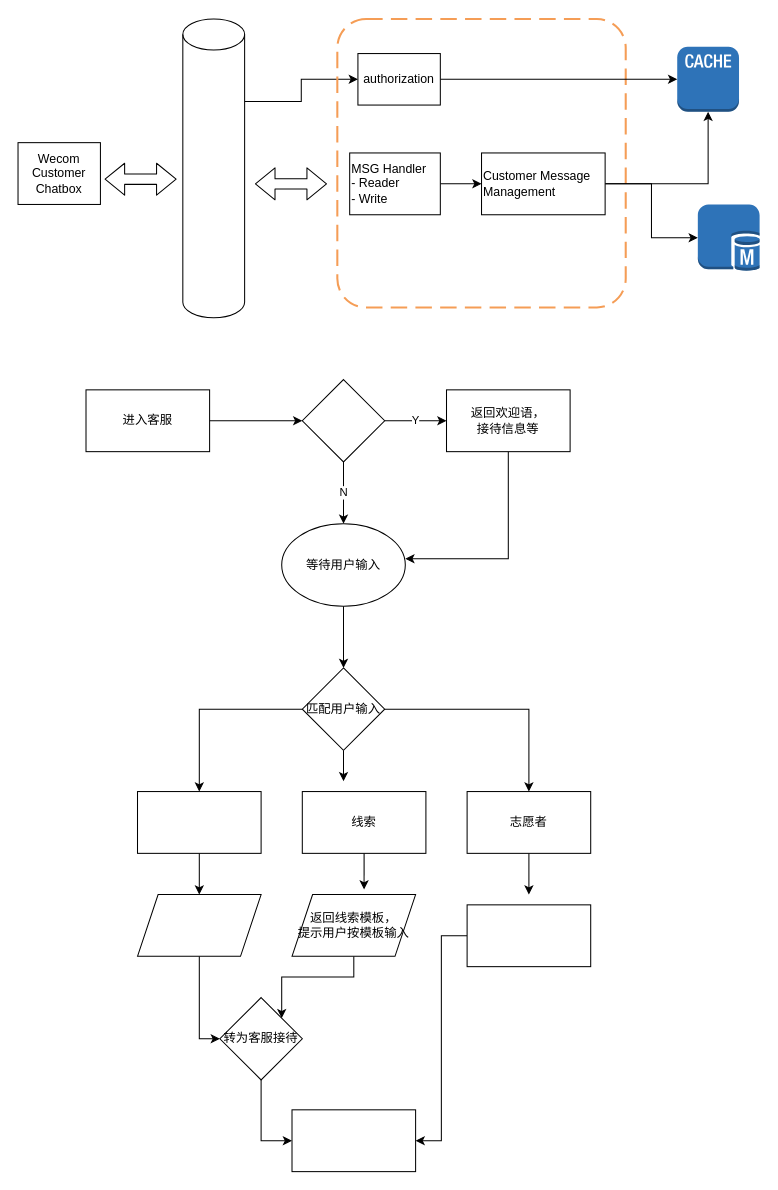
Image size: 778x1190. Some labels were removed from this diagram. Each missing label, with the box of its shape:
Wecom Customer Message Queue: (182, 18, 245, 318)
寻人: (136, 791, 261, 853)
是否首次: (301, 379, 385, 462)
结束: (291, 1109, 416, 1172)
返回二维码 提示加群: (466, 904, 591, 967)
返回寻人模板， 提示用户按模板输入: (136, 894, 261, 956)
